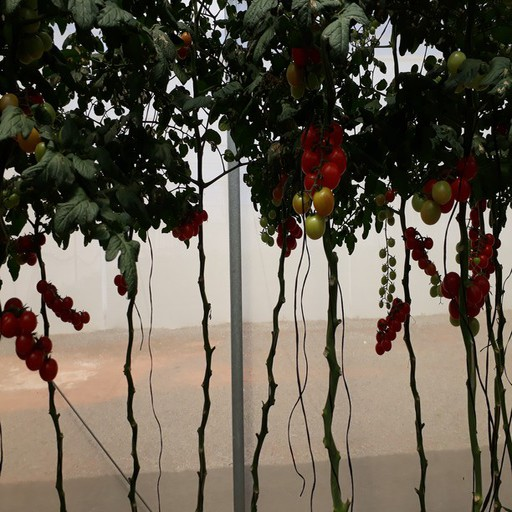green tomato bunch: (410, 46, 494, 104), (1, 98, 66, 162)
mixed tomato bunch: (412, 156, 477, 226), (286, 39, 326, 96), (467, 229, 500, 278)
red tomato bunch: (299, 121, 347, 234), (1, 297, 59, 380), (443, 274, 484, 337), (39, 284, 89, 332), (376, 298, 408, 355), (404, 229, 440, 279), (379, 238, 399, 316), (169, 207, 209, 244), (6, 232, 46, 266)
